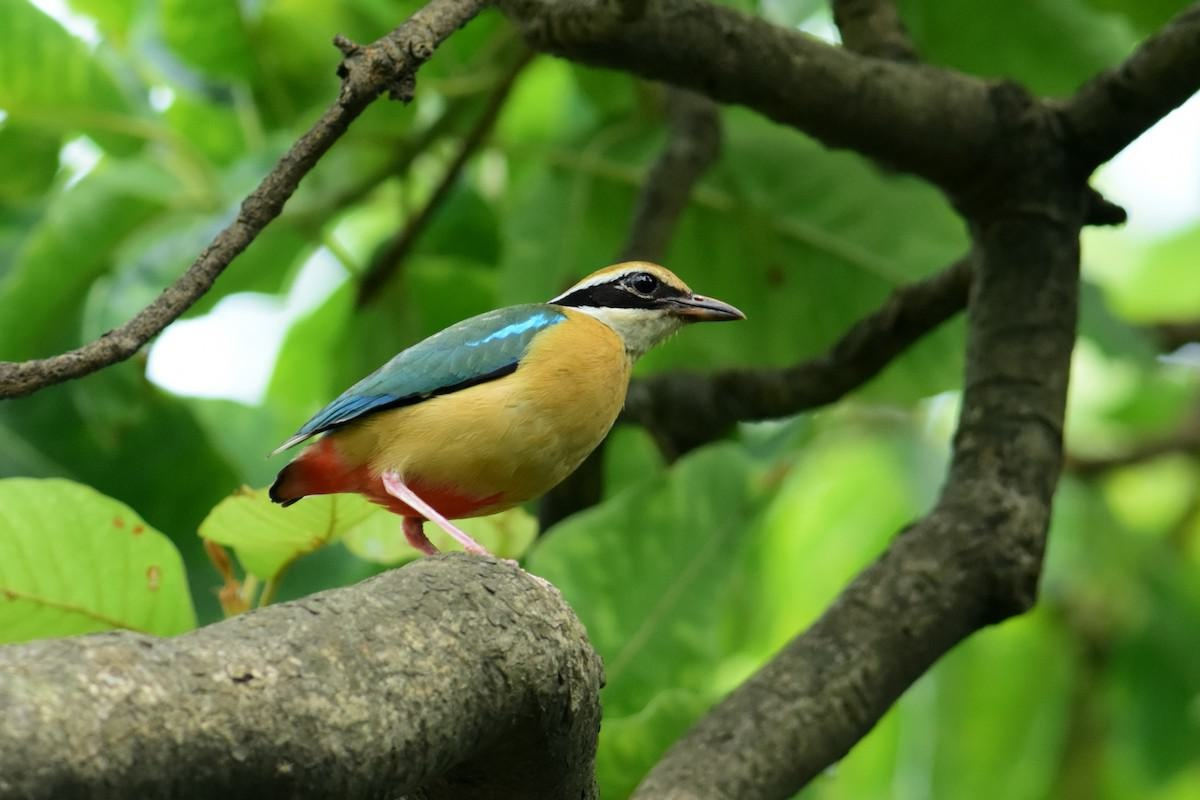pitta: (239, 225, 744, 588)
